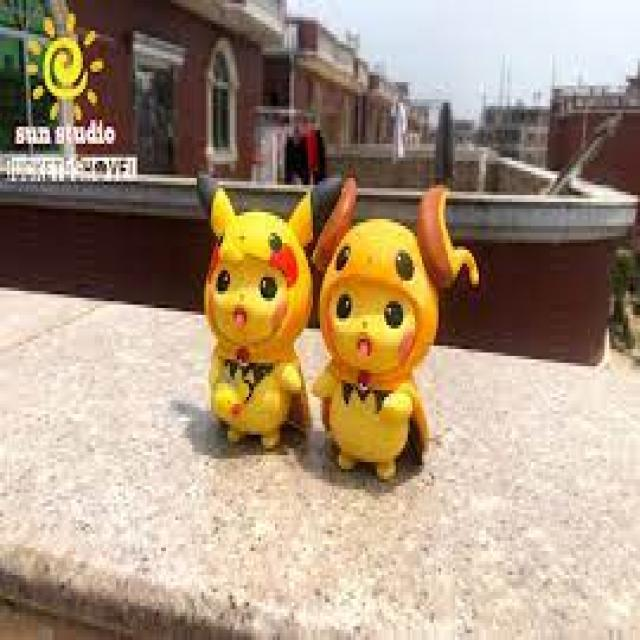pikachu: (169, 168, 325, 459), (326, 194, 442, 489)
